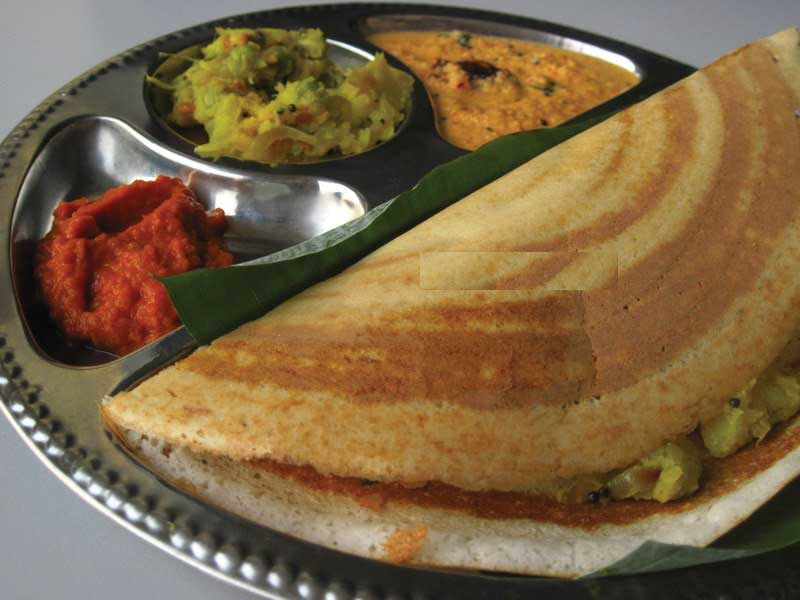dosa: (99, 26, 800, 589)
